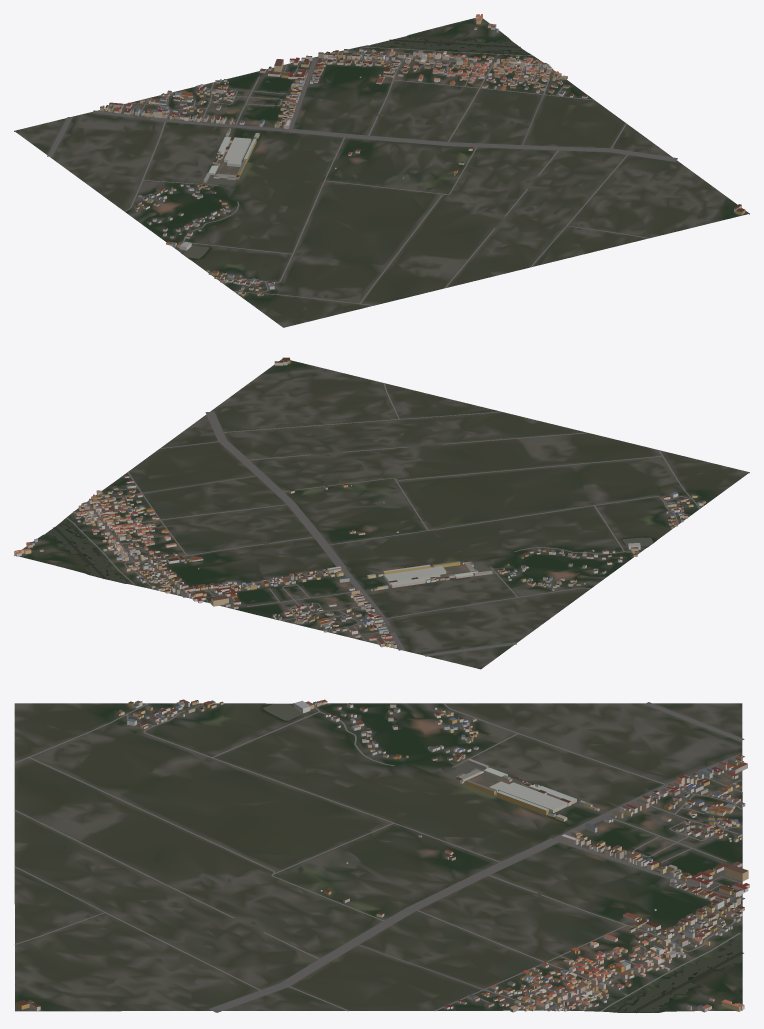
3 views of the same model, one above another, from view 1: azimuth 30°, elevation 25°; view 2: azimuth 150°, elevation 25°; view 3: azimuth 270°, elevation 25° (orthographic). The views are drawn at different scales.
Parts seen in each view (by area): view 1: ground, buildings, roads, water; view 2: ground, buildings, roads, water; view 3: ground, buildings, roads, water.
Boxes of the visible parts, <box> form: ground: <box>14,18,749,327</box>; buildings: <box>100,14,745,296</box>; roads: <box>47,28,677,305</box>; water: <box>183,36,526,258</box>; ground: <box>14,359,749,669</box>; buildings: <box>14,357,705,648</box>; roads: <box>66,383,701,656</box>; water: <box>47,521,653,583</box>; ground: <box>14,703,742,1012</box>; buildings: <box>16,699,749,1012</box>; roads: <box>14,702,744,1012</box>; water: <box>263,703,743,1013</box>.
Bounding box in the file's own units: 1420 × 24.92 × 1417.
